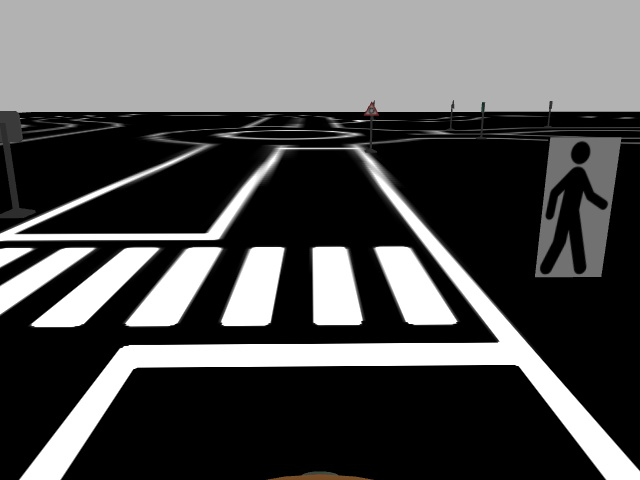pedestrian: (532, 135, 625, 279)
